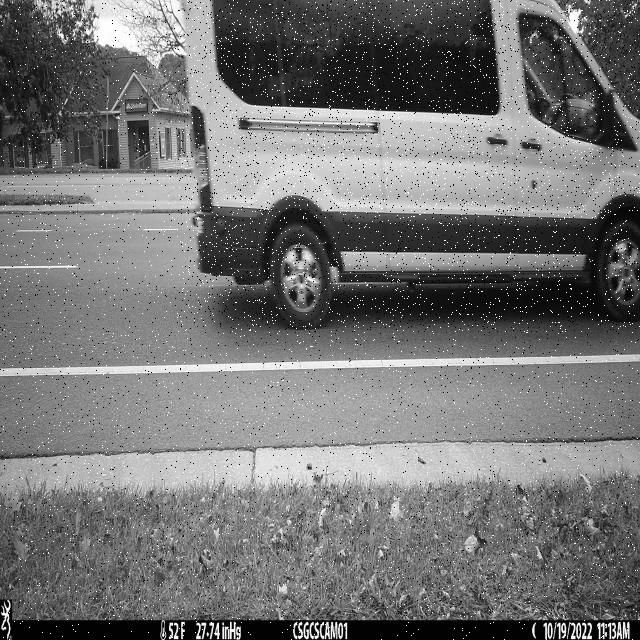Van: (178, 0, 640, 332)
